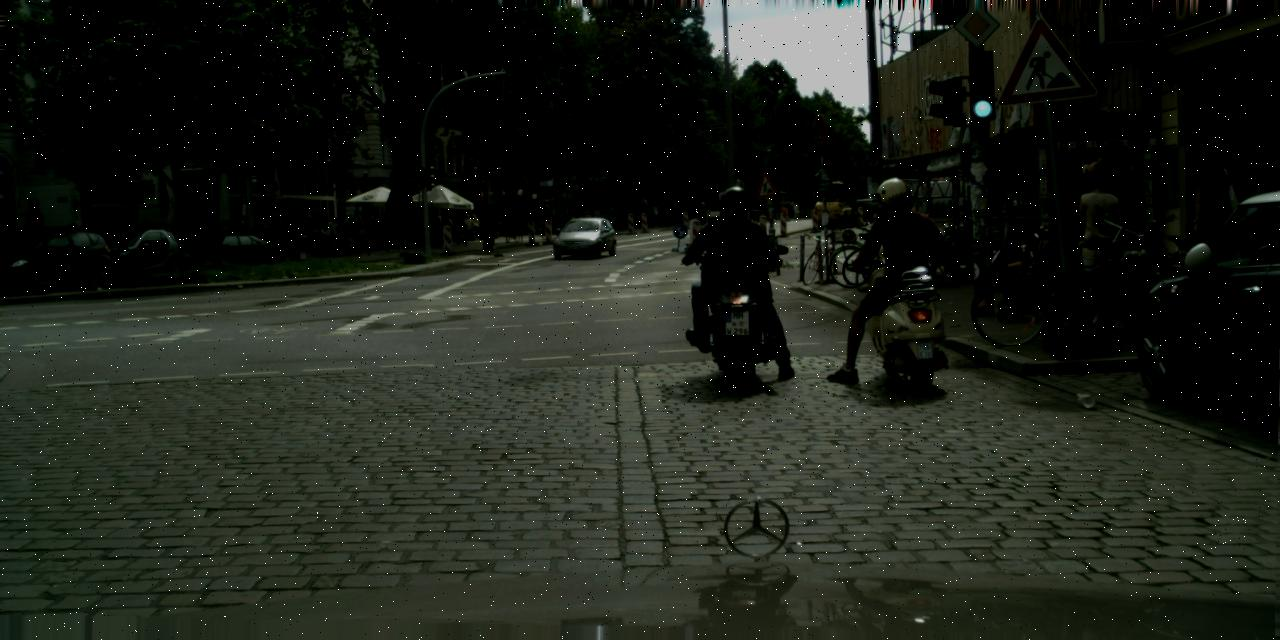ped: (700, 185, 774, 366), (852, 176, 924, 352), (1179, 148, 1245, 310), (1078, 161, 1134, 300), (1065, 172, 1120, 308), (247, 207, 381, 255), (76, 220, 98, 274), (62, 222, 82, 272), (430, 212, 457, 247), (452, 208, 466, 242), (560, 203, 572, 235), (464, 214, 480, 234), (543, 204, 554, 231), (554, 202, 564, 230), (650, 202, 660, 226), (419, 219, 423, 242), (414, 219, 416, 227), (460, 240, 461, 241)
